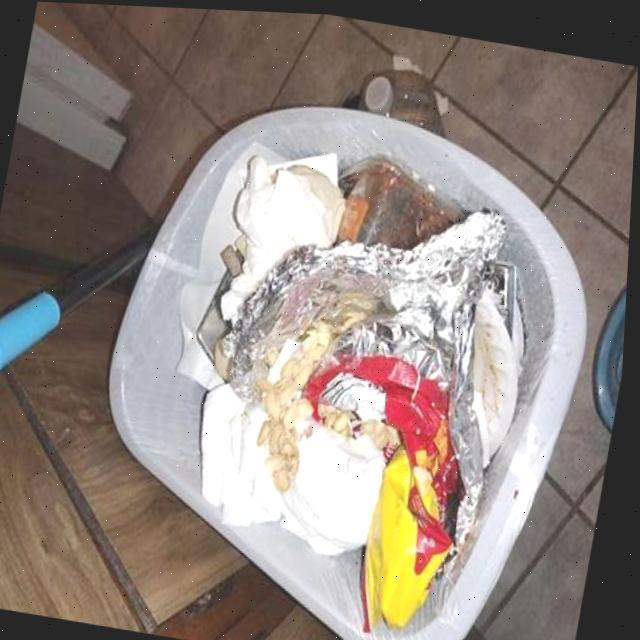Aluminium_foil: (236, 205, 506, 535)
Garbage: (181, 144, 527, 625)
Plastic_Bag: (305, 346, 469, 627)
